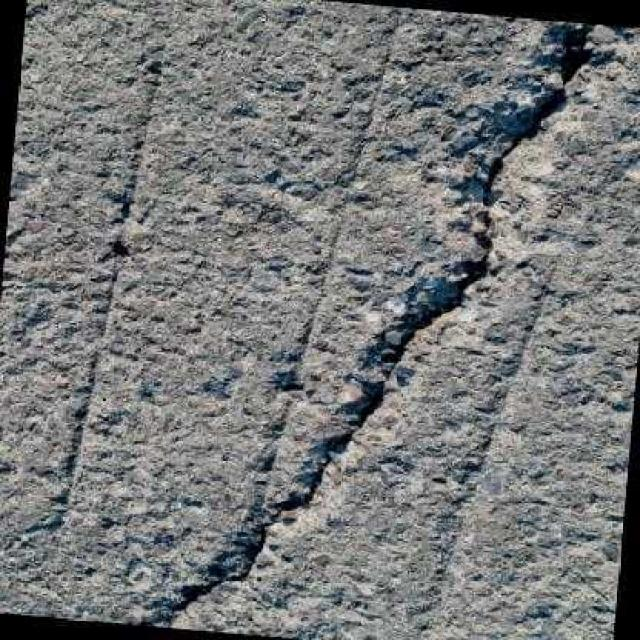D00: (157, 22, 599, 628)
